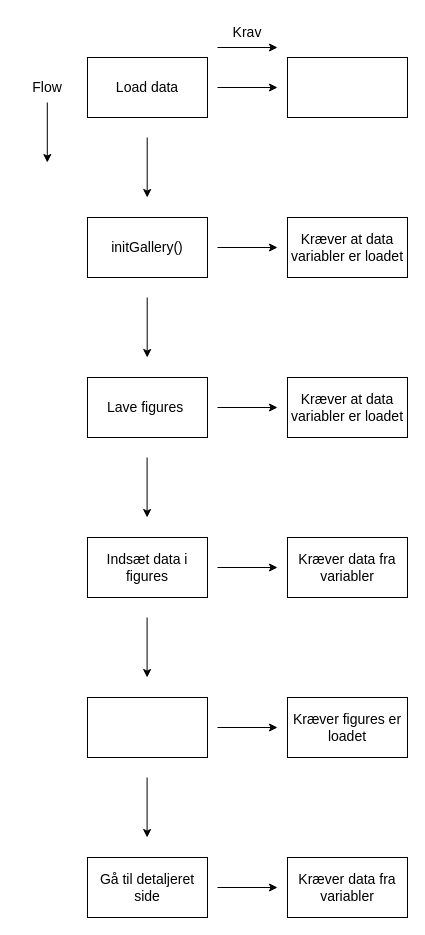
This 425x935 diagram has some shape labels left out. Here are the shapes that lost their labels. From the top down, the centre of each, then its label:
[347,87]: Kræver data variabler
[147,727]: Eventlistener "click" på figures
